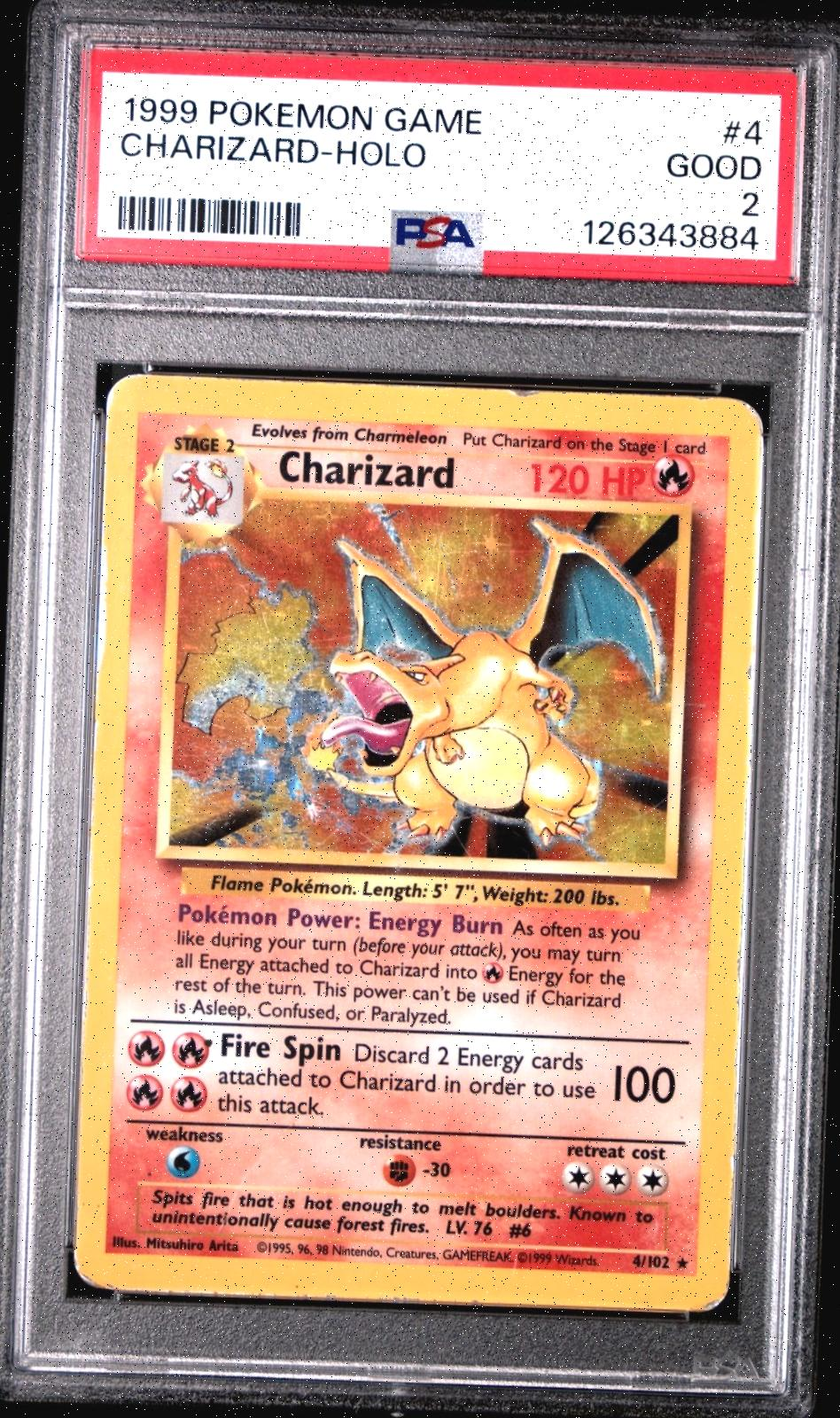card-2UtV: (72, 373, 764, 1313)
